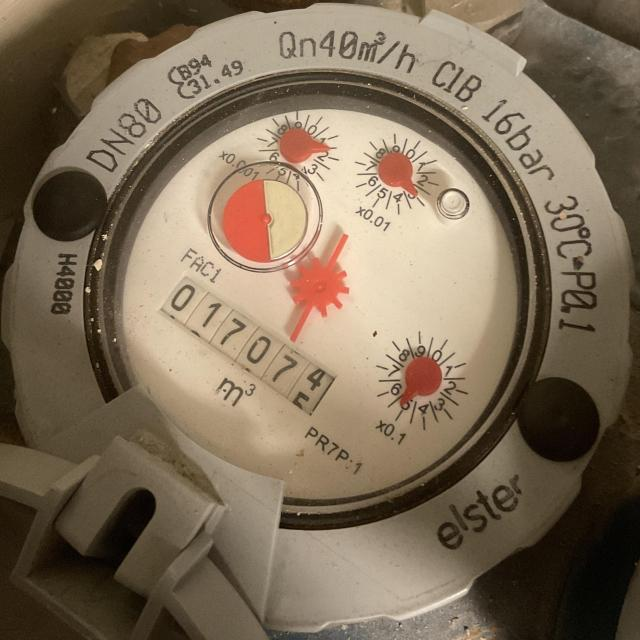gaz_meter: (100, 71, 536, 518)
indication: (154, 270, 340, 424)
